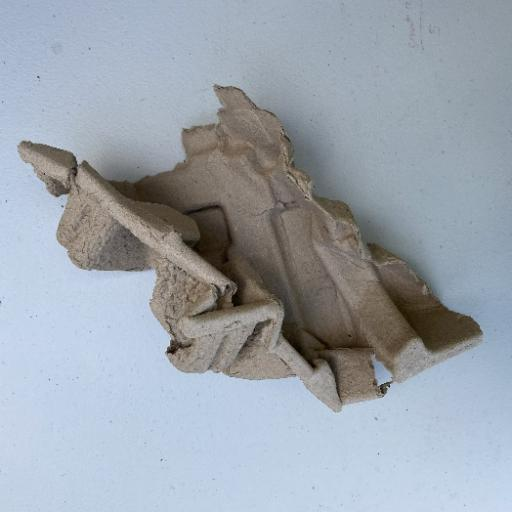Cardboard: (16, 82, 484, 413)
